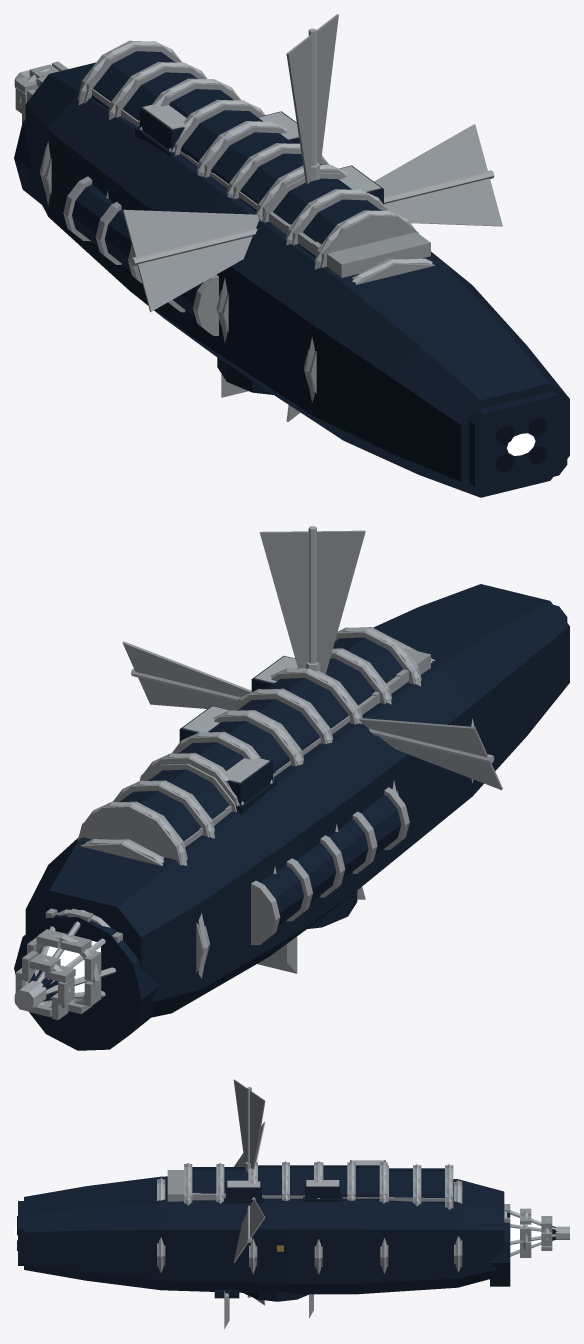
3 renders of one model, top to bottom at view 1: azimuth 30°, elevation 25°; view 2: azimuth 150°, elevation 25°; view 3: azimuth 270°, elevation 25°, orthographic. The views are drawn at different scales.
Visible parts, largest first — view 1: RIMWARD_HULL; view 2: RIMWARD_HULL; view 3: RIMWARD_HULL, RIMWARD_EMISSIVE.
Boxes of the visible parts, x1,y1,x2,y2 form: RIMWARD_HULL: (14, 14, 569, 497); RIMWARD_HULL: (14, 526, 569, 1050); RIMWARD_HULL: (17, 1079, 569, 1329); RIMWARD_EMISSIVE: (510, 1214, 541, 1252).
Size of the model in its own units: 4.5 by 4.76 by 10.85.
